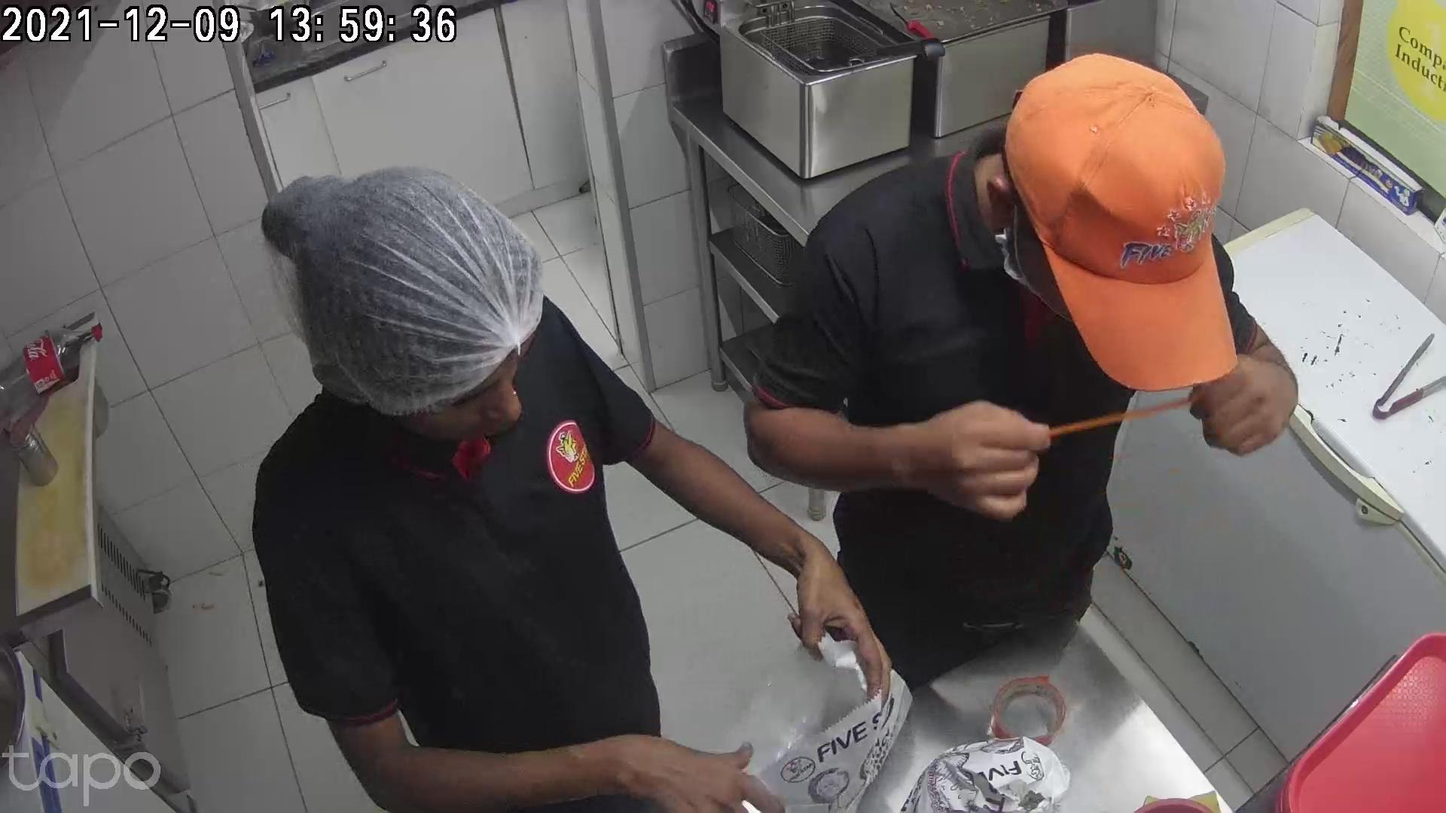no_gloves: (859, 412, 1042, 513)
